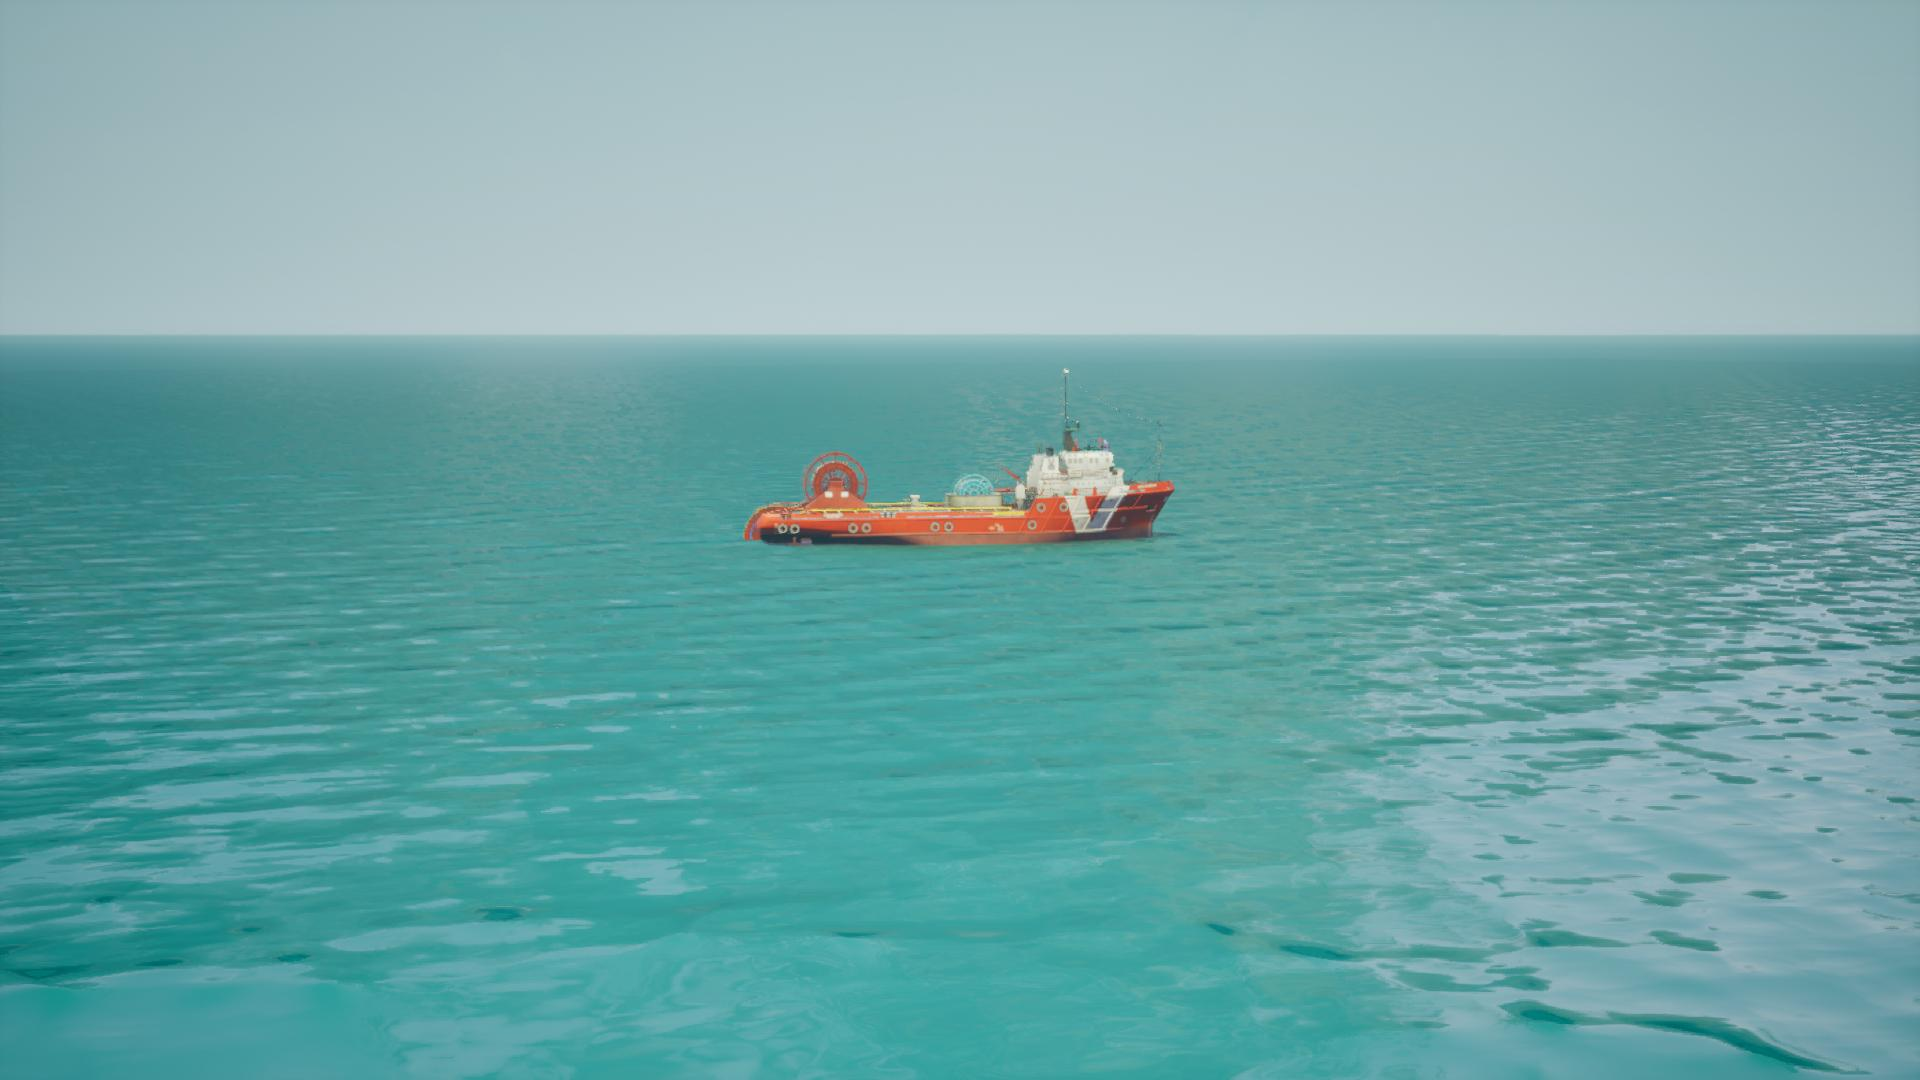Tug Boat: (742, 369, 1183, 550)
